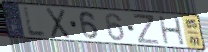6: (78, 10, 100, 41), (104, 12, 126, 42)
H: (157, 16, 187, 47)
L: (23, 6, 49, 38)
X: (45, 6, 72, 40)
Z: (132, 13, 161, 46)
